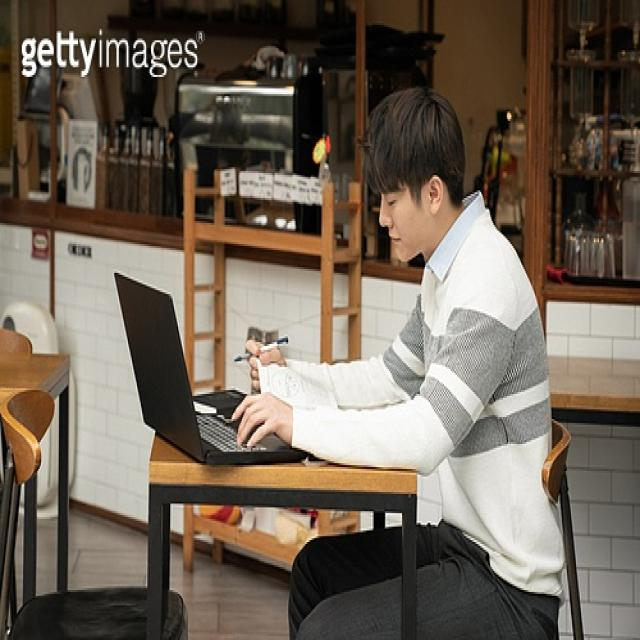notebook-person: (111, 77, 571, 640)
